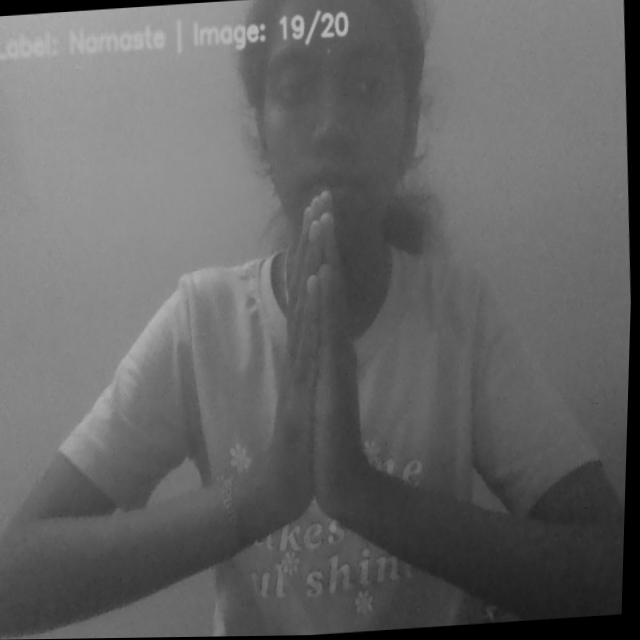Namaste: (236, 181, 396, 547)
